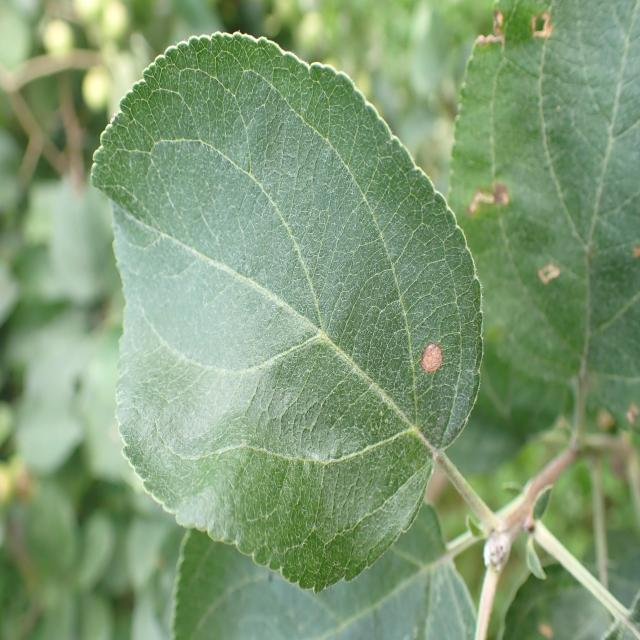Black Rot: (404, 328, 466, 405), (524, 242, 572, 316), (464, 0, 512, 66), (462, 170, 512, 233), (521, 0, 562, 54)
